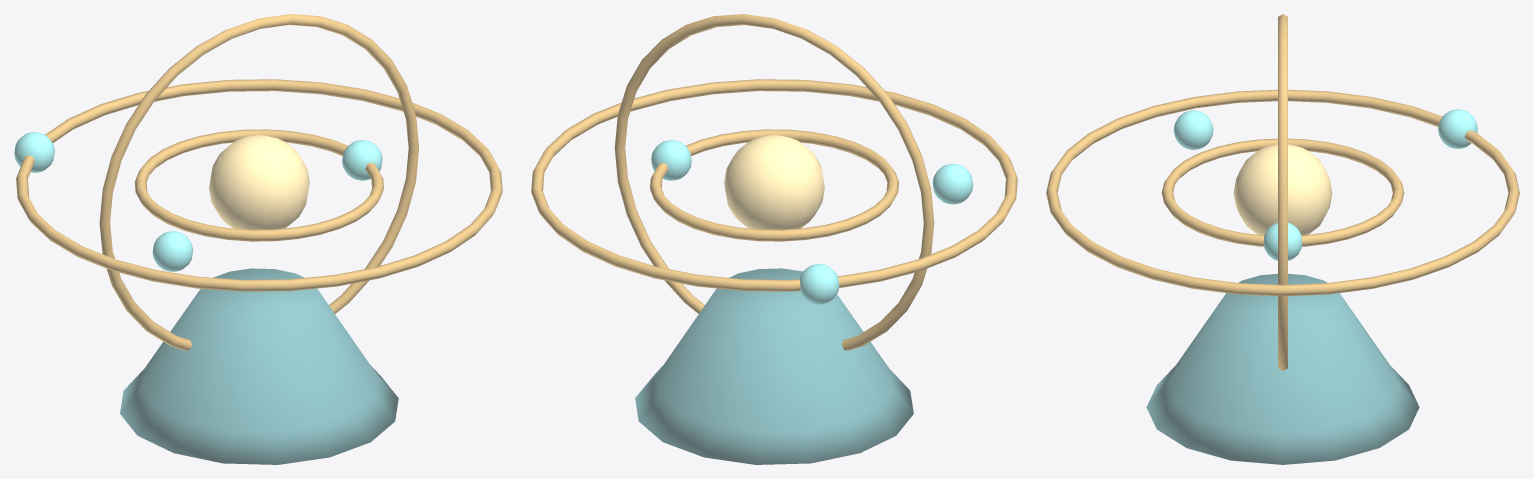
Rendered from sky_orrery.glb.
3 renders of one model, left to right at view 1: azimuth 30°, elevation 25°; view 2: azimuth 150°, elevation 25°; view 3: azimuth 270°, elevation 25°, orthographic. The views are drawn at different scales.
Parts seen in each view (by area): view 1: sky_orrery_surface; view 2: sky_orrery_surface; view 3: sky_orrery_surface.
Part boxes in pixels (left/top/right/bottom): sky_orrery_surface: left=14, top=14, right=502, bottom=464; sky_orrery_surface: left=531, top=14, right=1017, bottom=464; sky_orrery_surface: left=1046, top=14, right=1519, bottom=464.
Size of the model in its own units: 4.51 by 3.95 by 4.51.
